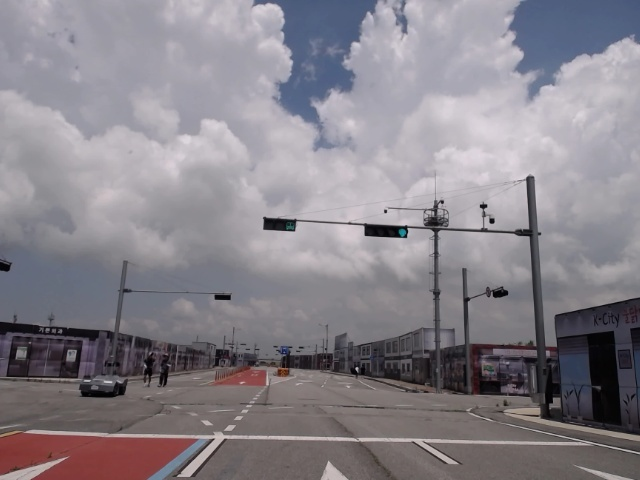straight_green_4: (364, 223, 409, 241)
